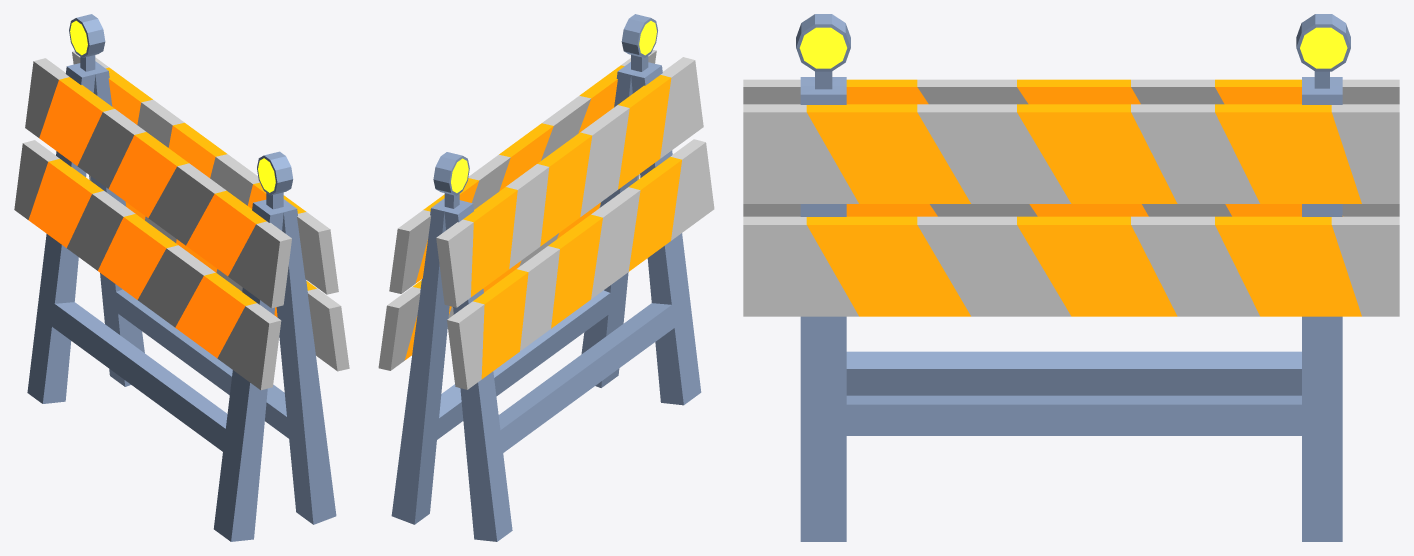
Rendered from Barrier_2.fbx.
3 renders of one model, left to right at view 1: azimuth 30°, elevation 25°; view 2: azimuth 150°, elevation 25°; view 3: azimuth 270°, elevation 25°, orthographic. The views are drawn at different scales.
Visible parts, largest first — view 1: Cube.003; view 2: Cube.003; view 3: Cube.003.
Boxes of the visible parts, x1,y1,x2,y2 form: Cube.003: (14,14,349,541); Cube.003: (378,14,714,541); Cube.003: (743,14,1399,541).
Bounding box in the file's own units: 0.4939 × 1.66 × 2.
